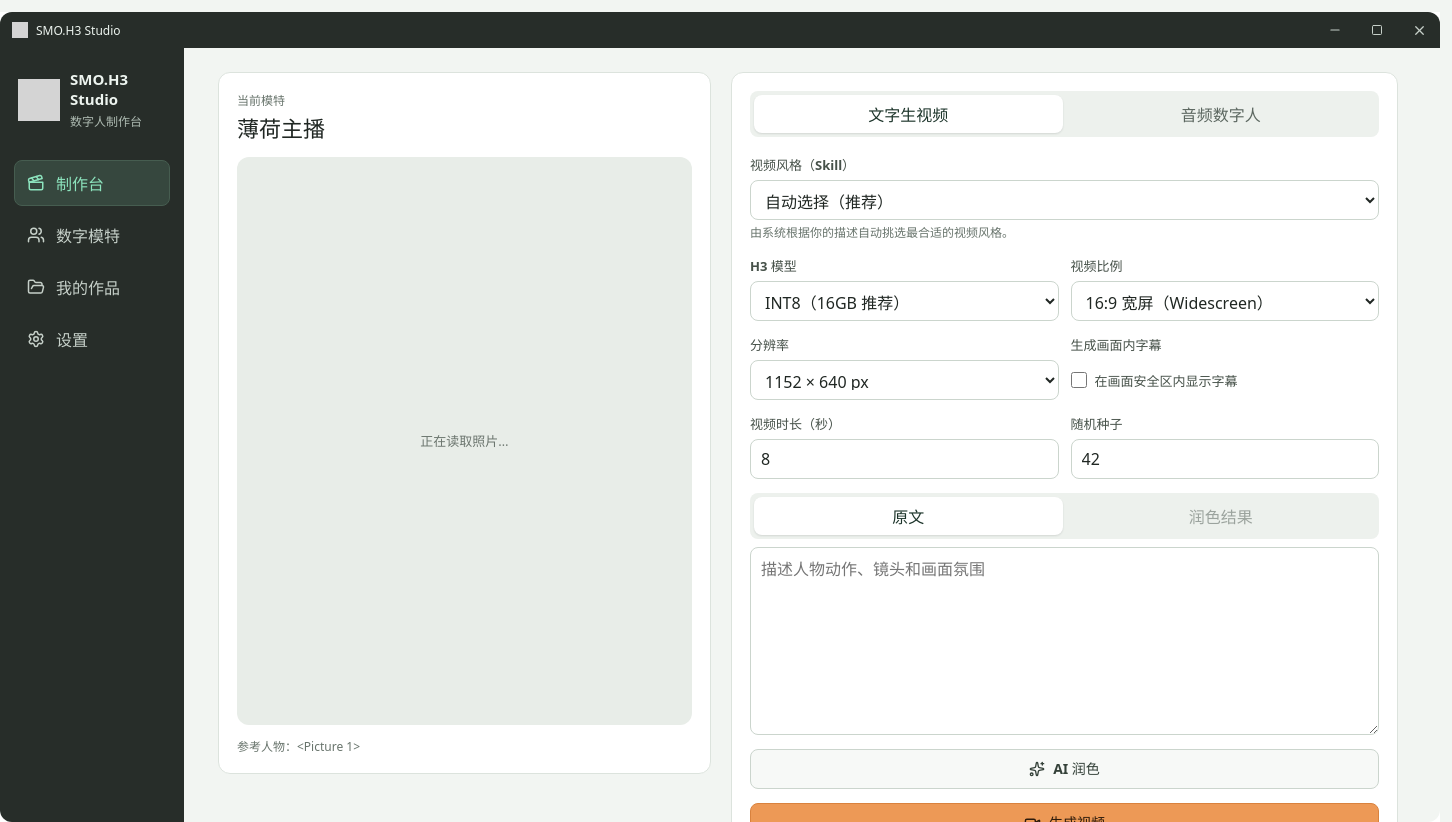
Test: SMO.H3 Studio navigation and avatars › uses the real brand and switches between actual pages without TTS modes
This screenshot has width=1452, height=822.
Check: the heading "薄荷主播" is shown, box [237,113,325,143]
Check: the heading "SMO.H3 Studio" is shown, box [70,69,128,108]
Step 1. Click the button "数字模特" → (92, 235), box [14,212,170,258]
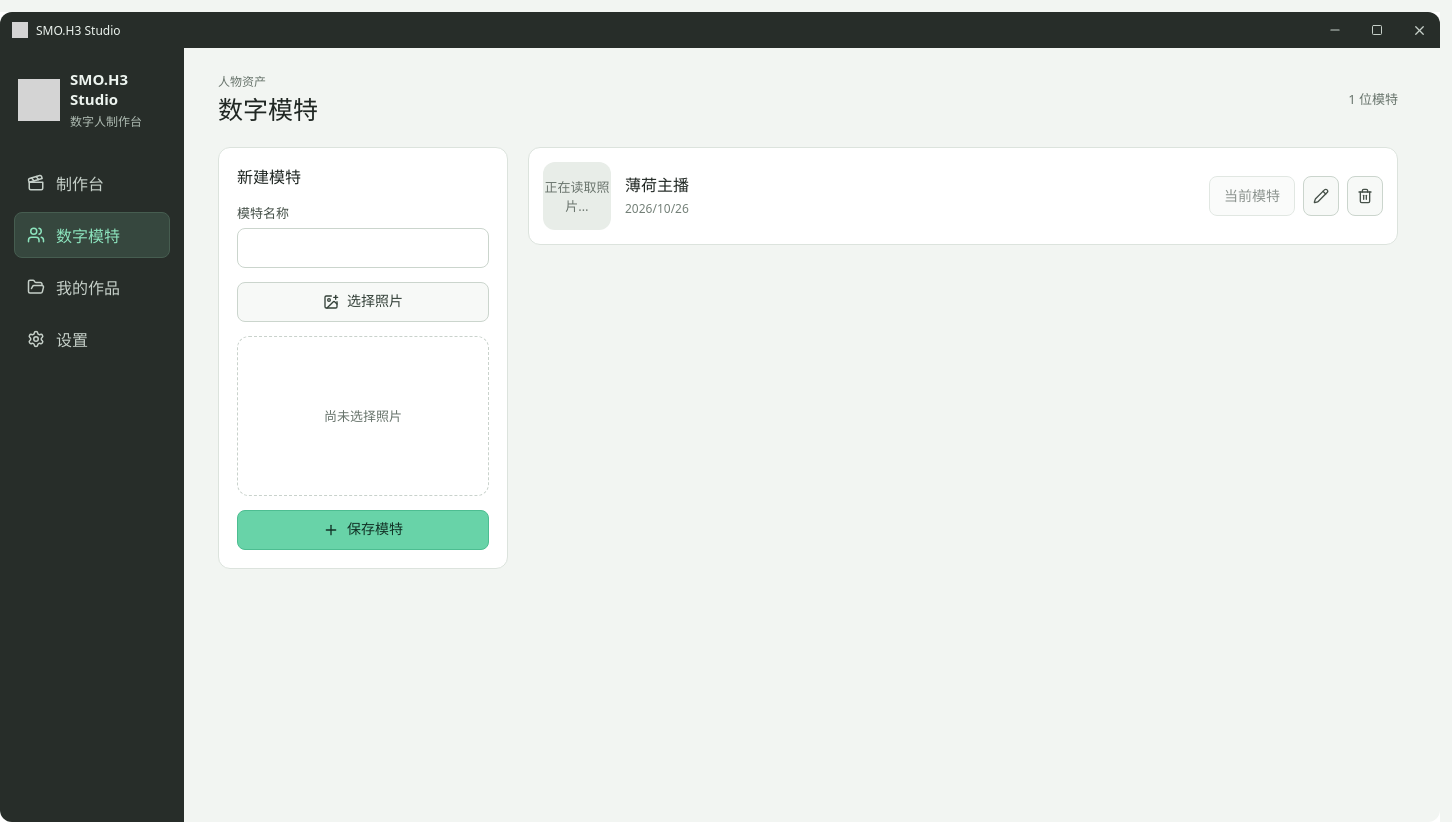
Check: the heading "数字模特" is shown, box [218,94,318,125]
Step 2. Click the button "我的作品" → (92, 287), box [14,264,170,310]
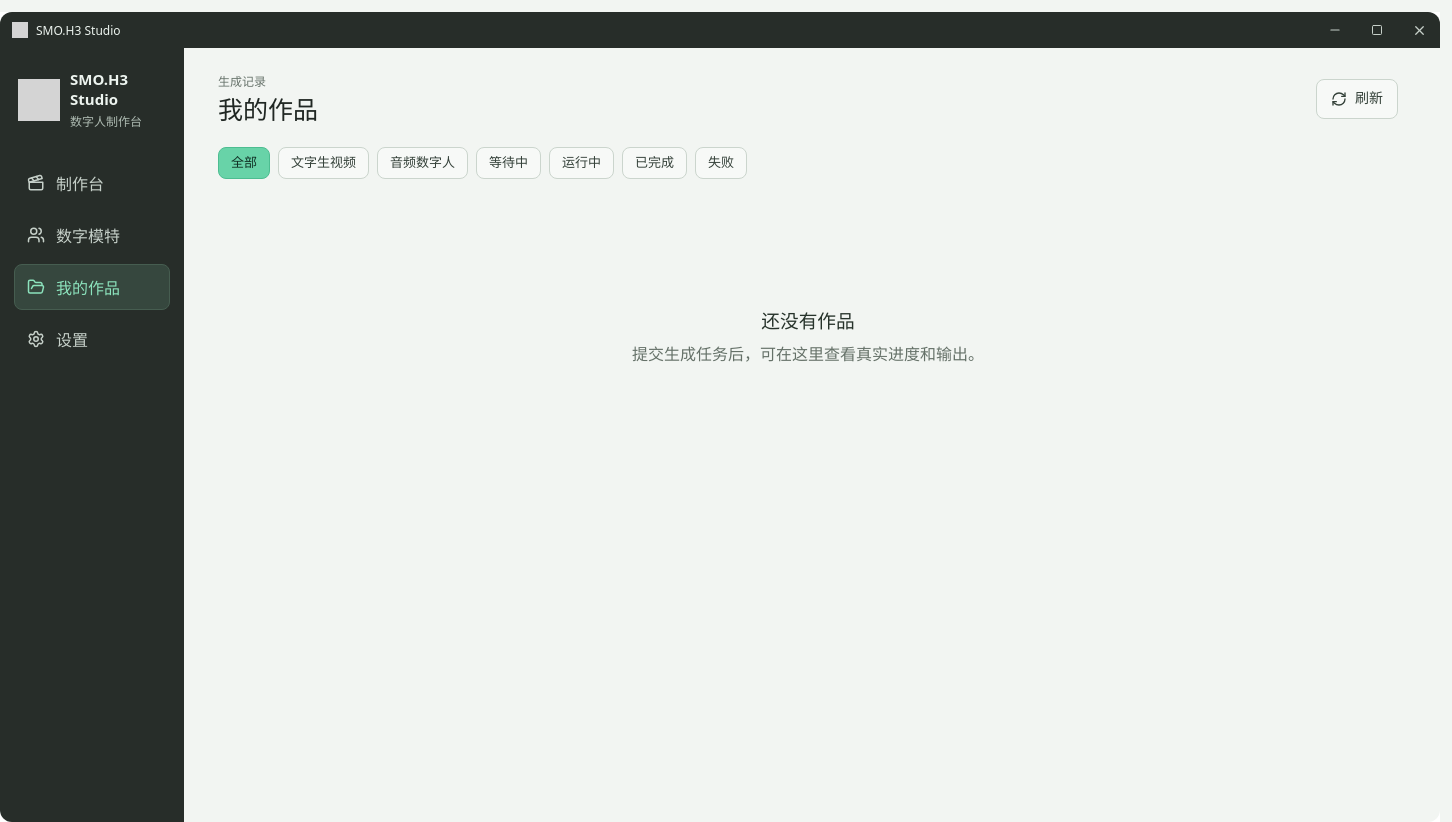
Check: the heading "我的作品" is shown, box [218,94,318,125]
Step 3. Click the button "设置" → (92, 339), box [14,316,170,362]
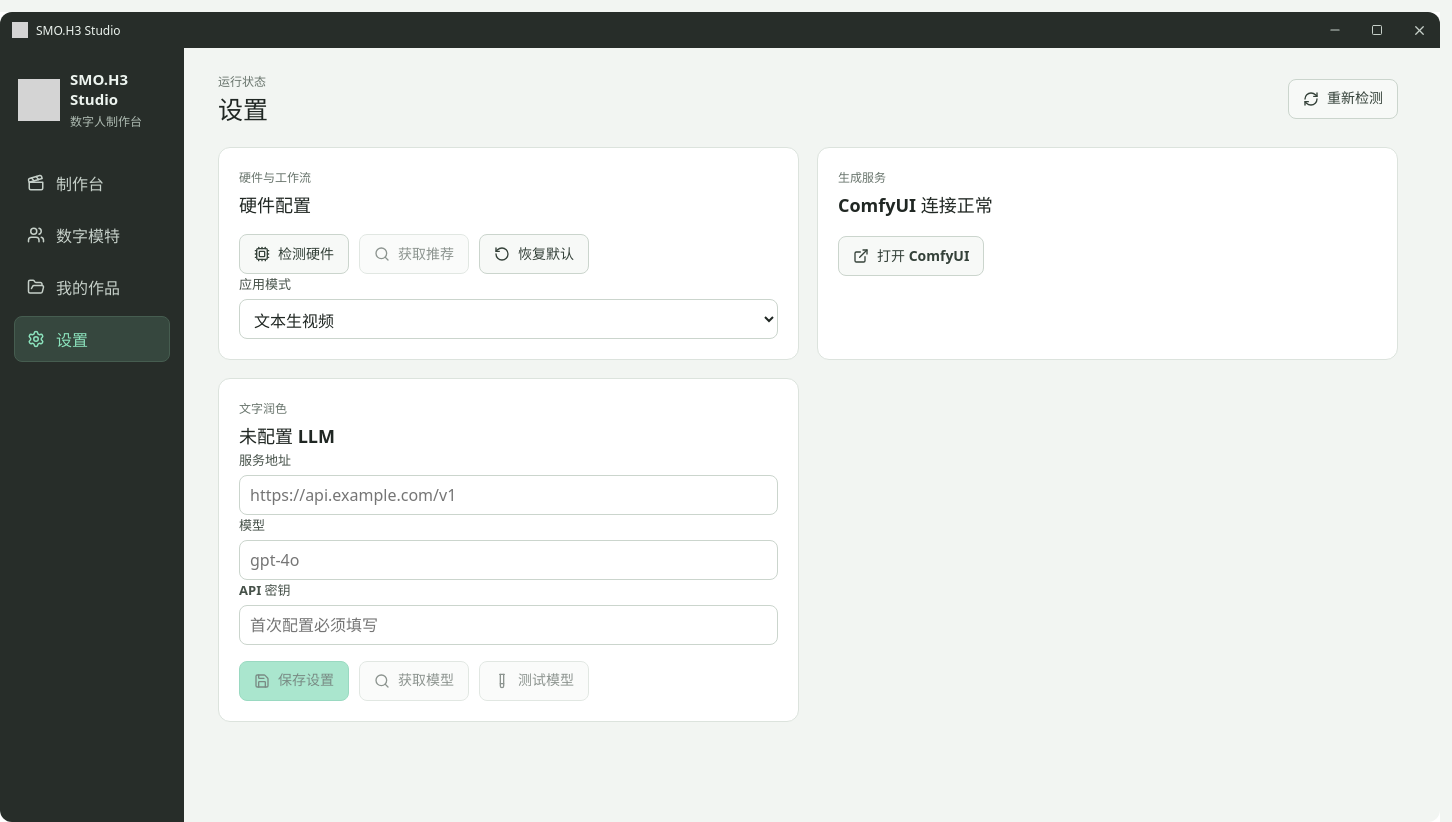
Check: the heading "设置" is shown, box [218,94,268,125]
